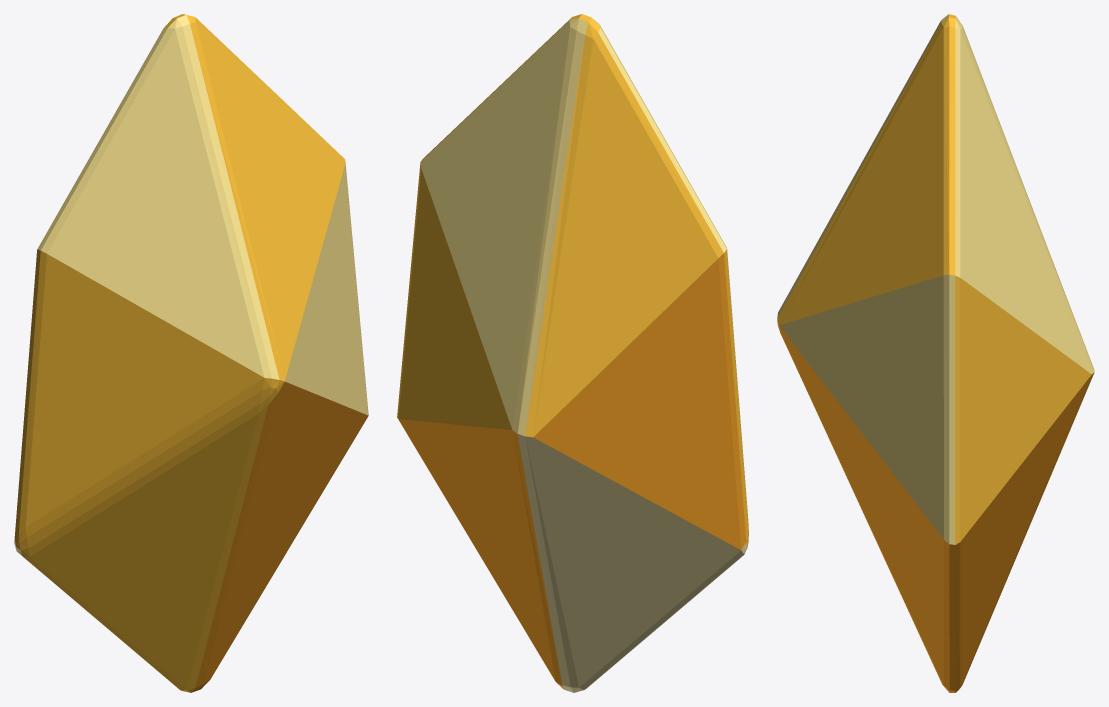
Rendered from energy-token.glb.
The picture shows the model from 3 angles, left to right: view 1: azimuth 30°, elevation 25°; view 2: azimuth 150°, elevation 25°; view 3: azimuth 270°, elevation 25°; orthographic projection.
Parts seen in each view (by area): view 1: Energy_crystal_facets_0, Energy_crystal_facets_1, Energy_crystal_facets_2; view 2: Energy_crystal_facets_0, Energy_crystal_facets_2, Energy_crystal_facets_1, Energy_crystal_facets_3; view 3: Energy_crystal_facets_1, Energy_crystal_facets_0, Energy_crystal_facets_2.
Part boxes in pixels (x1,y1,x2,y2): Energy_crystal_facets_0: (14, 14, 345, 692); Energy_crystal_facets_1: (37, 15, 368, 415); Energy_crystal_facets_2: (14, 378, 368, 692); Energy_crystal_facets_0: (397, 14, 748, 547); Energy_crystal_facets_2: (398, 253, 746, 689); Energy_crystal_facets_1: (420, 18, 726, 436); Energy_crystal_facets_3: (517, 434, 747, 692); Energy_crystal_facets_1: (777, 14, 1094, 544); Energy_crystal_facets_0: (777, 14, 1091, 544); Energy_crystal_facets_2: (779, 325, 1094, 692).
Bounding box in the file's own units: 0.2171 × 0.402 × 0.1727.
